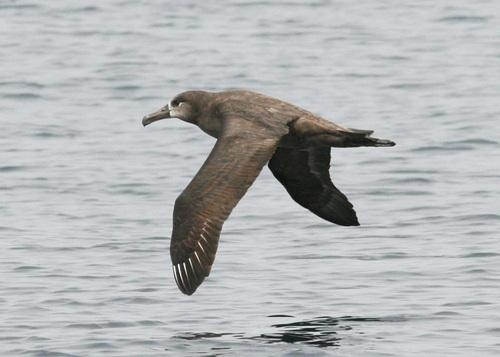bird: (133, 82, 391, 292)
